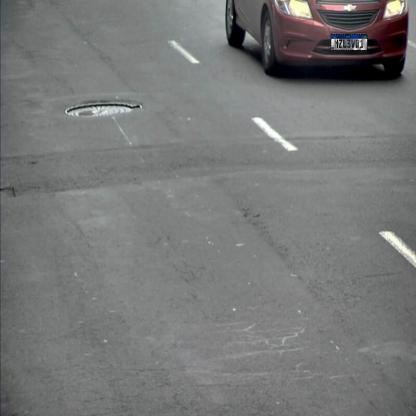PlacaM: (330, 34, 368, 51)
